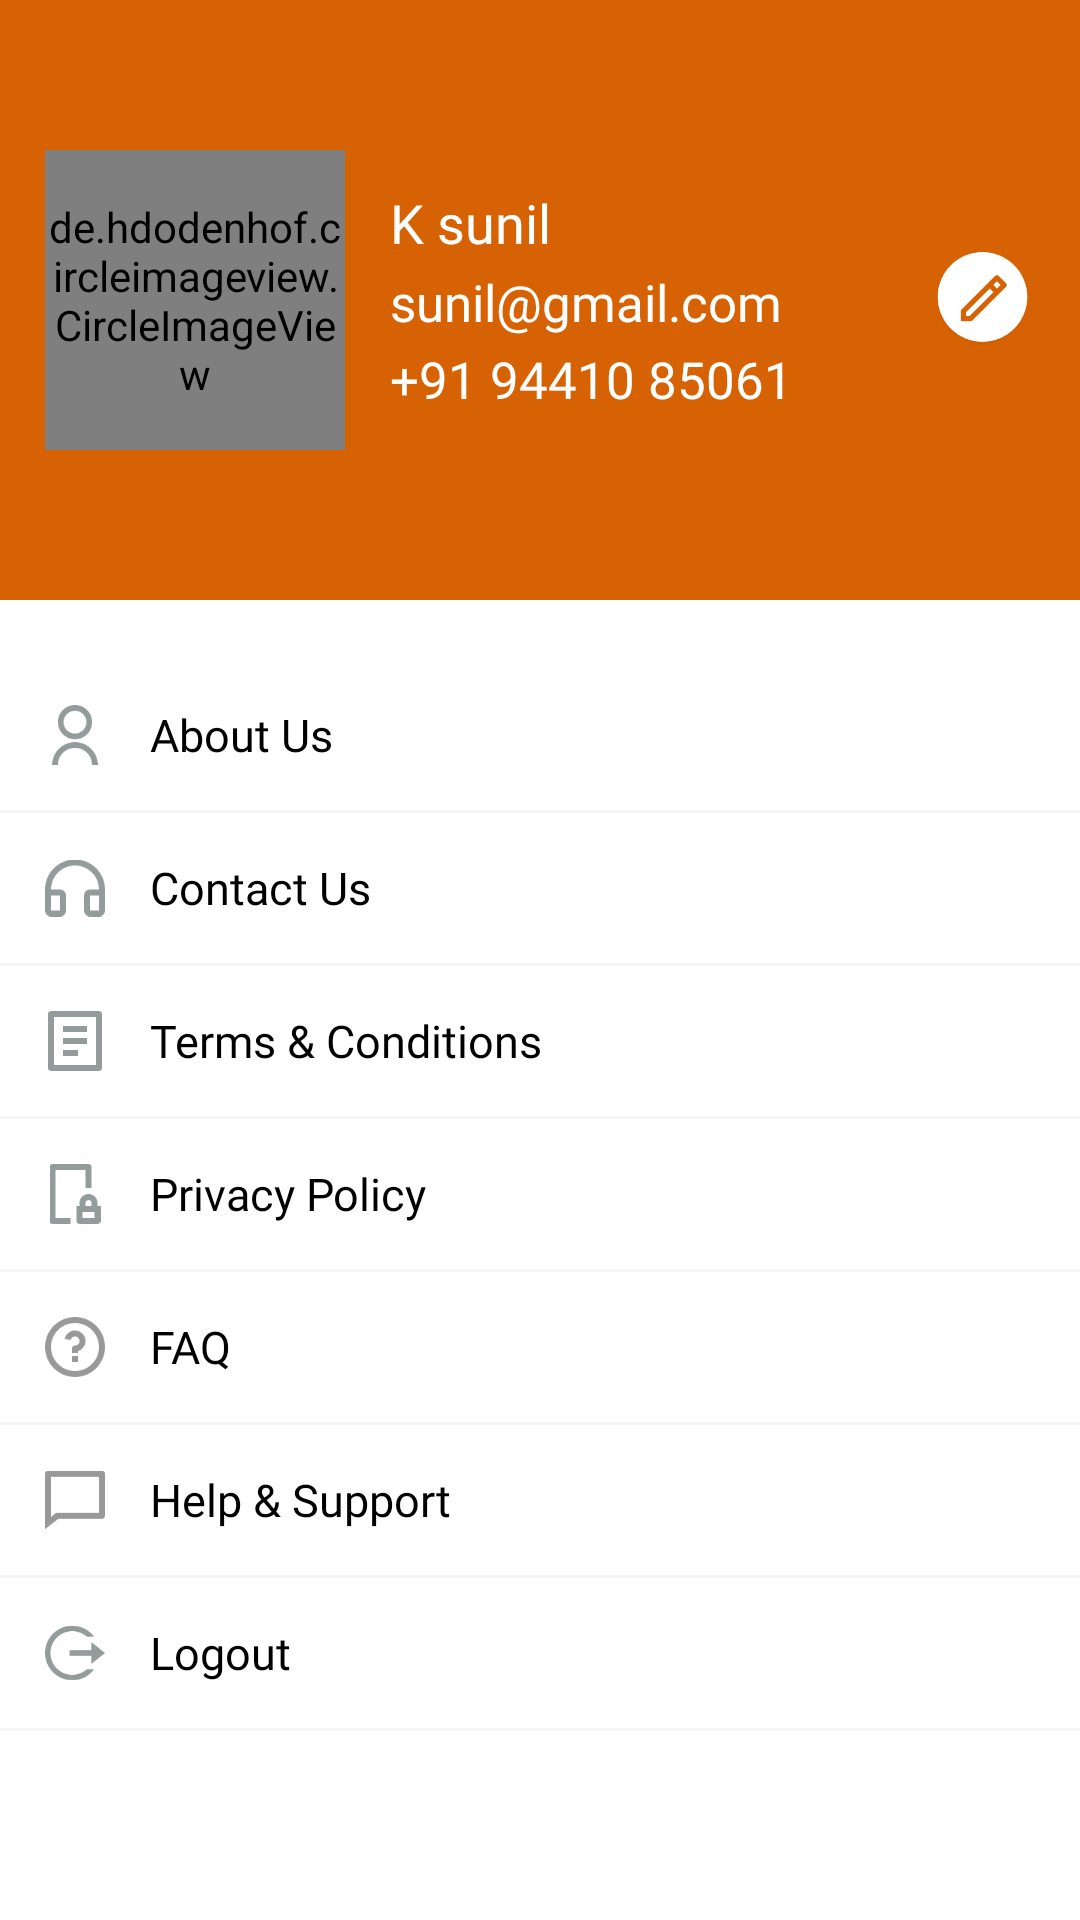

Icon click points for this 1080px×1920px phone screenshot, format (x=x, y=y):
profile edit: (x=982, y=297)
termsandc: (x=75, y=1041)
